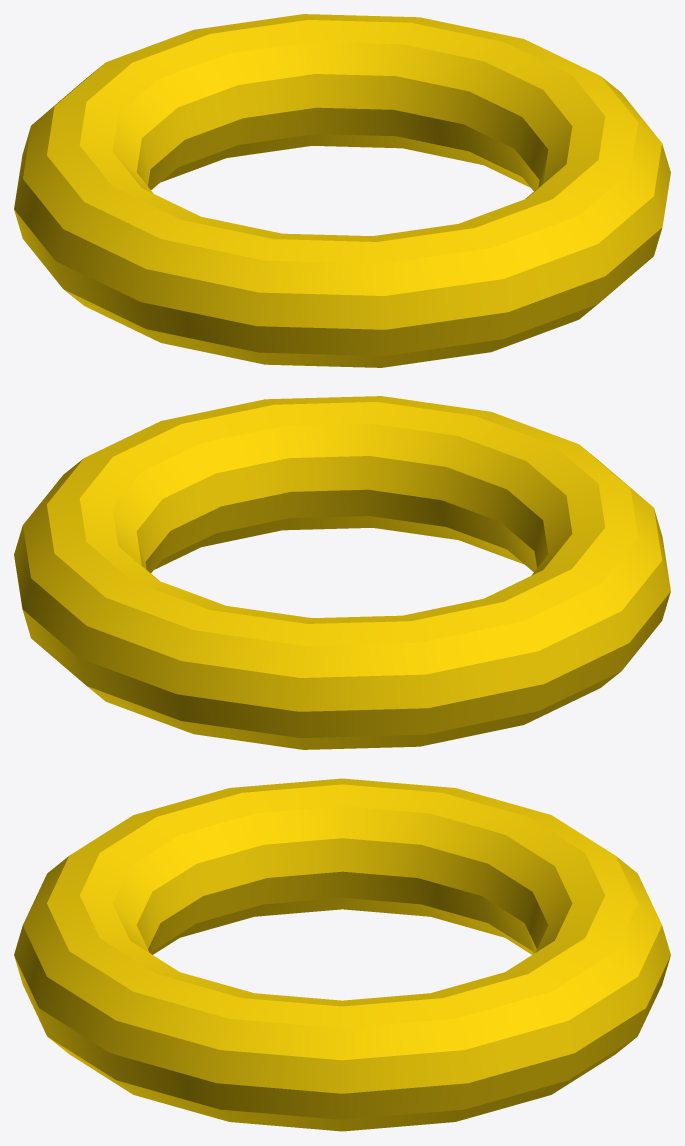
Rendered from Ring2.fbx.
3 renders of one model, top to bottom at view 1: azimuth 30°, elevation 25°; view 2: azimuth 150°, elevation 25°; view 3: azimuth 270°, elevation 25°, orthographic.
Parts seen in each view (by area): view 1: pTorus1; view 2: pTorus1; view 3: pTorus1.
Boxes of the visible parts, <box> form: pTorus1: <box>14,14,670,367</box>; pTorus1: <box>14,396,670,749</box>; pTorus1: <box>14,778,670,1131</box>.
Size of what is drawn, in the model's own units: 2 by 0.4 by 2.
1 material, 1 textured.
